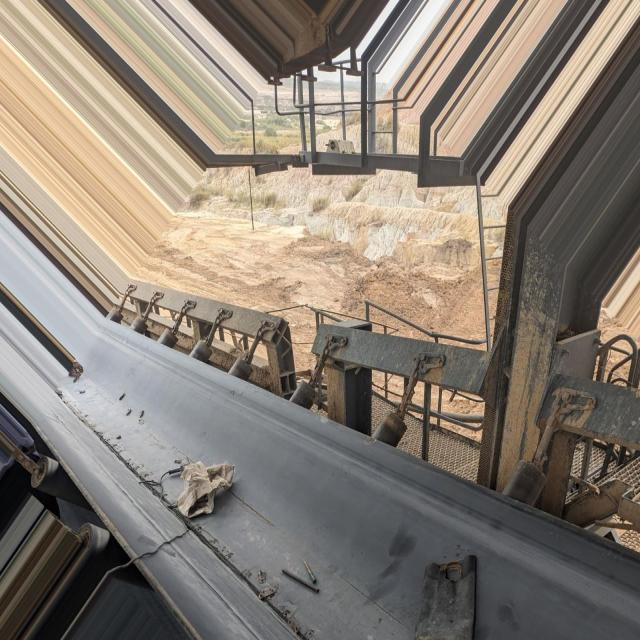Other Objects: (408, 555, 479, 640), (167, 454, 238, 520), (137, 527, 197, 566), (280, 552, 321, 603)
Roller: (500, 454, 552, 505), (369, 412, 408, 443), (289, 375, 319, 415), (187, 336, 213, 362), (129, 310, 152, 336), (228, 358, 255, 379), (159, 322, 181, 341), (113, 310, 125, 324)
Tear: (64, 400, 309, 640)
